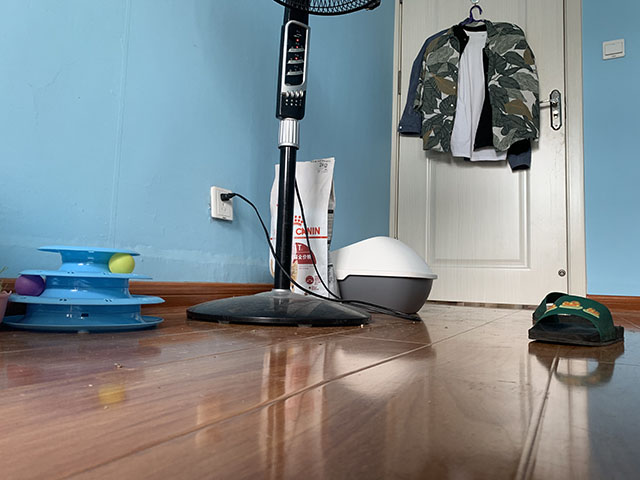slippers: (527, 291, 626, 348)
wire: (220, 173, 423, 323)
